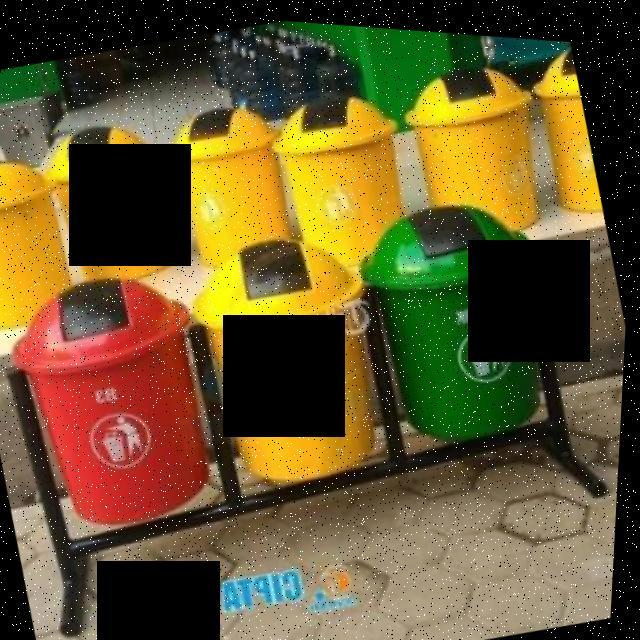bin: (170, 200, 420, 509), (337, 166, 584, 473), (0, 251, 244, 551), (382, 39, 566, 253), (257, 68, 434, 280), (146, 83, 314, 279), (34, 102, 193, 296), (512, 30, 612, 214), (0, 140, 87, 341)
